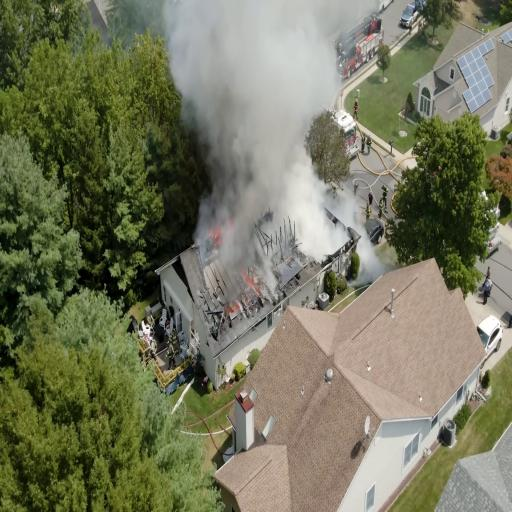smoke: (180, 0, 313, 147)
